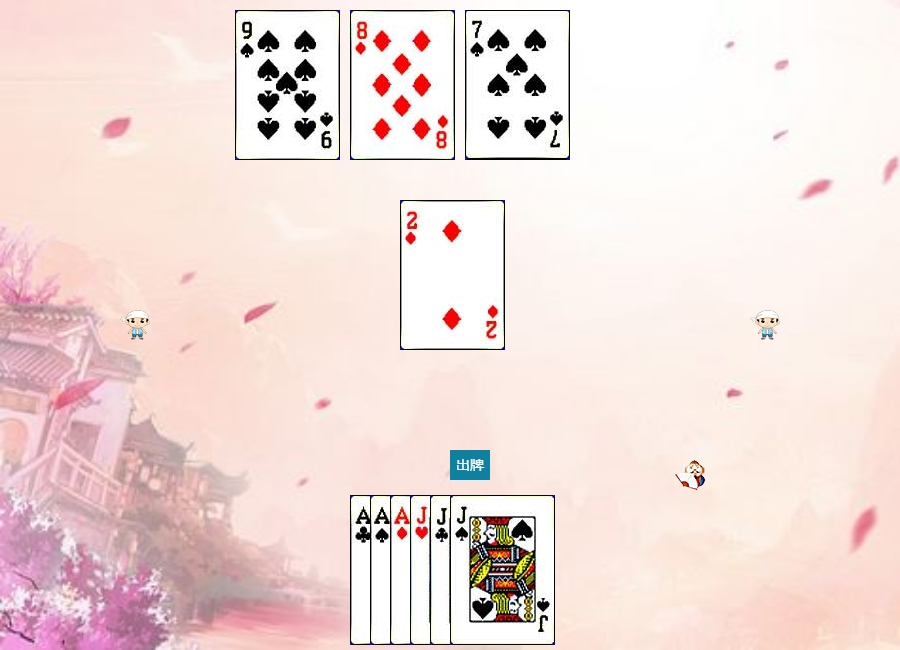11~2: (430, 495, 535, 645)
11~3: (410, 495, 515, 645)
11~4: (450, 495, 555, 645)
14~1: (390, 495, 495, 645)
14~2: (350, 495, 455, 645)
14~4: (370, 495, 475, 645)
15~1: (400, 200, 505, 350)
7~4: (465, 10, 570, 160)
8~1: (350, 10, 455, 160)
9~4: (235, 10, 340, 160)
